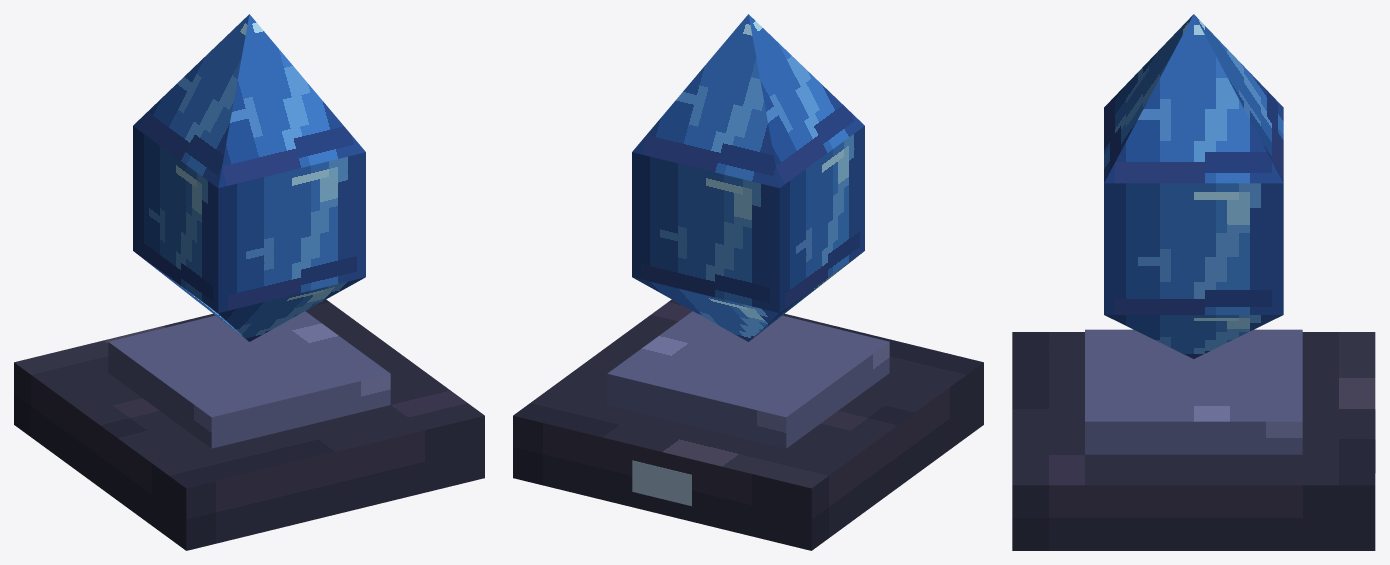
File: power_node.obj
3 renders of one model, left to right at view 1: azimuth 30°, elevation 25°; view 2: azimuth 150°, elevation 25°; view 3: azimuth 270°, elevation 25°, orthographic. The views are drawn at different scales.
Parts seen in each view (by area): view 1: Suspended double point, Power plinth, Power socket; view 2: Suspended double point, Power plinth, Power socket, Channel inlay; view 3: Power plinth, Suspended double point, Power socket.
Part boxes in pixels (x1,y1,x2,y2): Suspended double point: (133,14,365,341); Power plinth: (14,299,484,550); Power socket: (108,311,390,448); Suspended double point: (632,14,864,341); Power plinth: (513,299,983,550); Power socket: (607,311,889,448); Channel inlay: (632,460,691,506); Power plinth: (1012,332,1375,550); Suspended double point: (1104,14,1283,358); Power socket: (1085,329,1302,454).
Size of the model in its own units: 0.625 by 0.875 by 0.6256.
